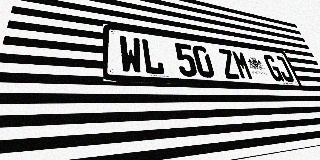0: (191, 45, 215, 78)
5: (174, 43, 199, 77)
G: (262, 54, 285, 82)
J: (273, 56, 295, 82)
L: (140, 38, 165, 75)
M: (231, 50, 254, 80)
W: (119, 35, 144, 74)
Z: (217, 48, 241, 79)
